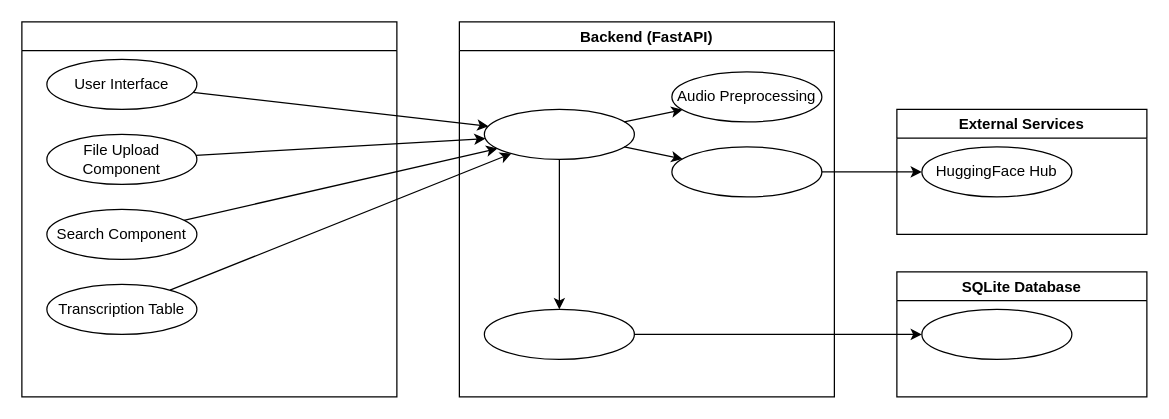
Some shapes in this 1169 by 419 pixel diagram are drawn without their labels. The shapes that lost their labels are listed below. From the top down, each one's box as (x1, y1, x2, y2) in pixels, then its label:
(483, 108, 634, 159): REST API Endpoints
(671, 146, 822, 197): Whisper Model
(21, 21, 397, 397): Frontend (React SPA)
(483, 308, 634, 359): Database Layer
(921, 308, 1072, 359): Transcriptions Table
